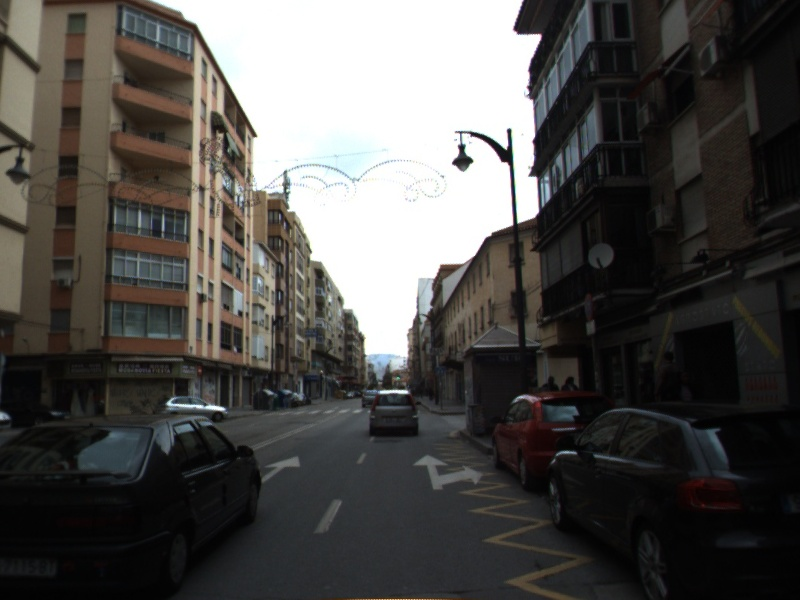STRAIGHT: (260, 454, 302, 483)
STRAIGHT_RIGHT: (410, 452, 486, 491)
